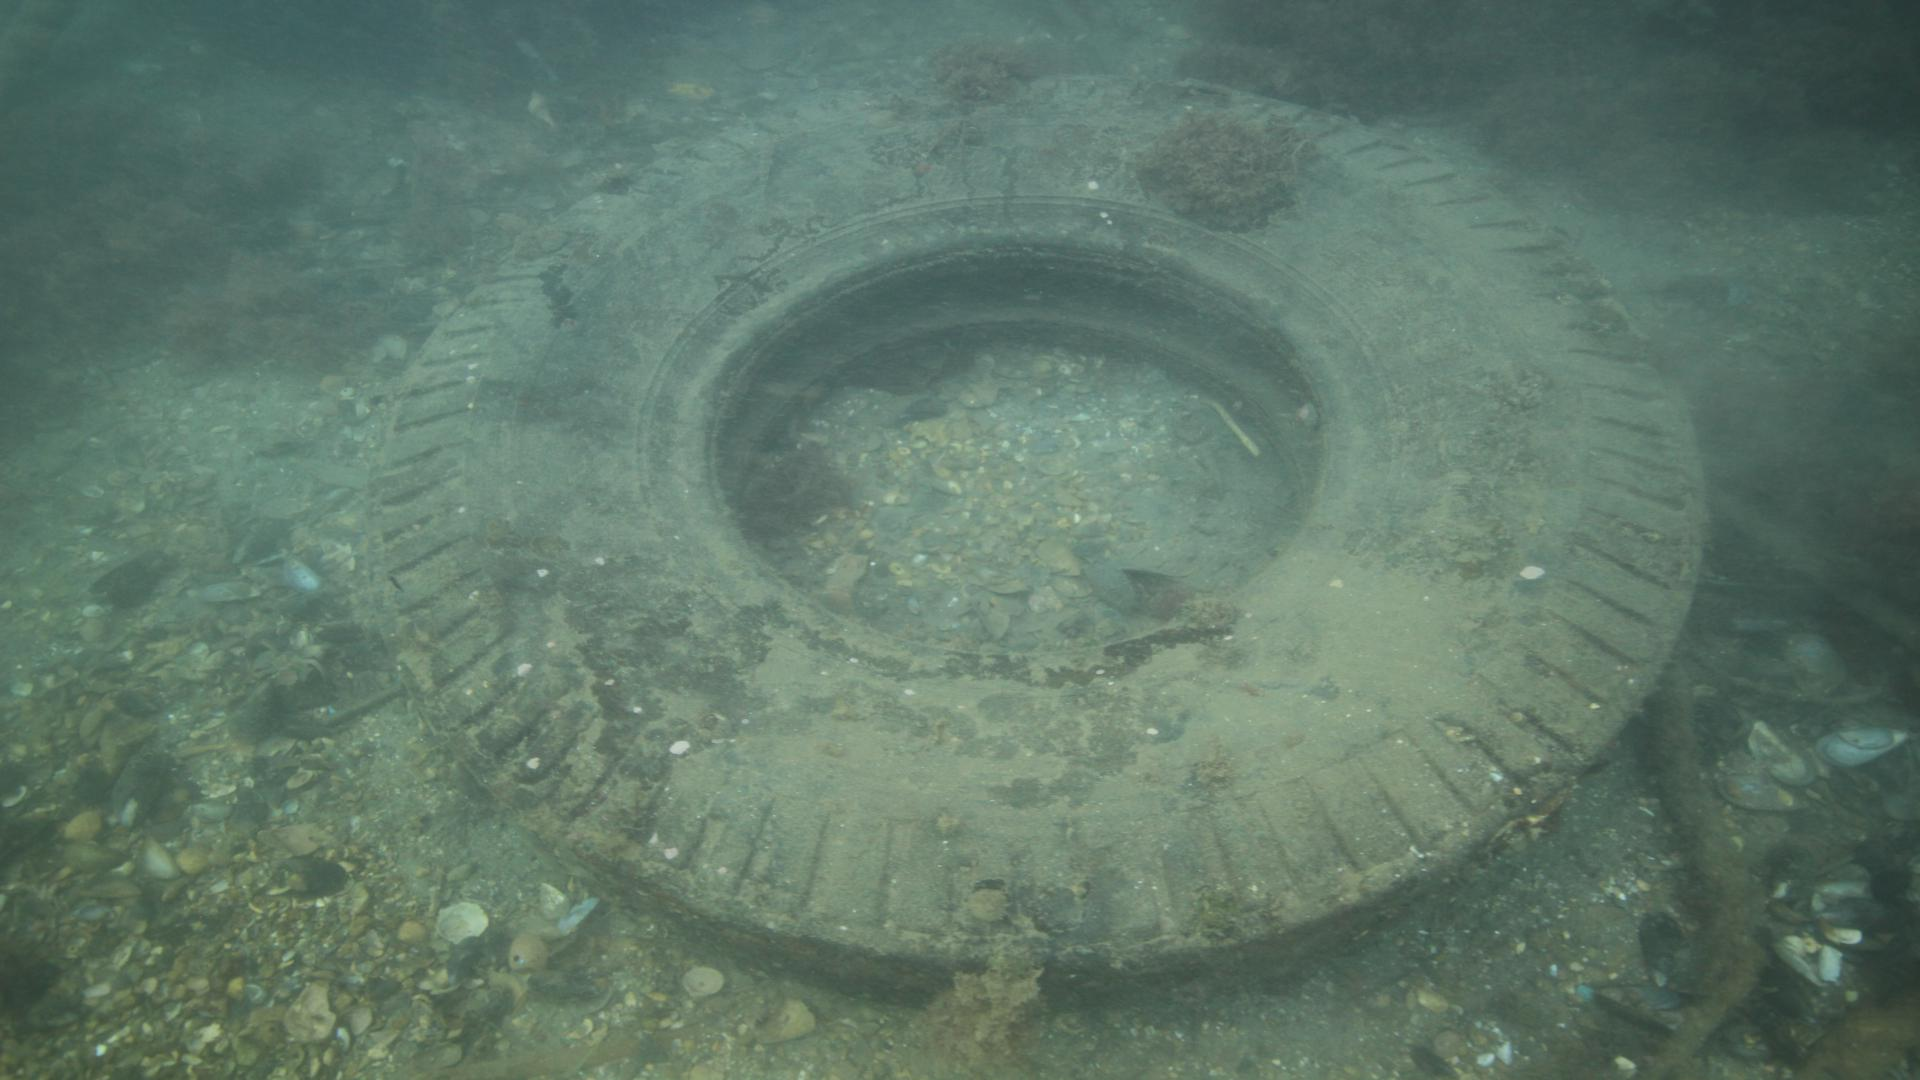tire: (367, 70, 1701, 1015)
